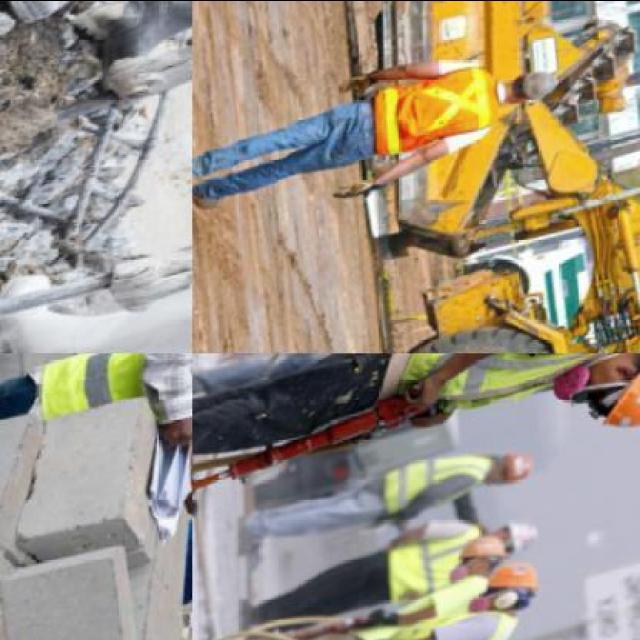helmet: (585, 342, 640, 440), (495, 560, 551, 604), (505, 513, 549, 563), (504, 444, 544, 484), (518, 64, 556, 105)
jacket: (366, 54, 502, 161)
